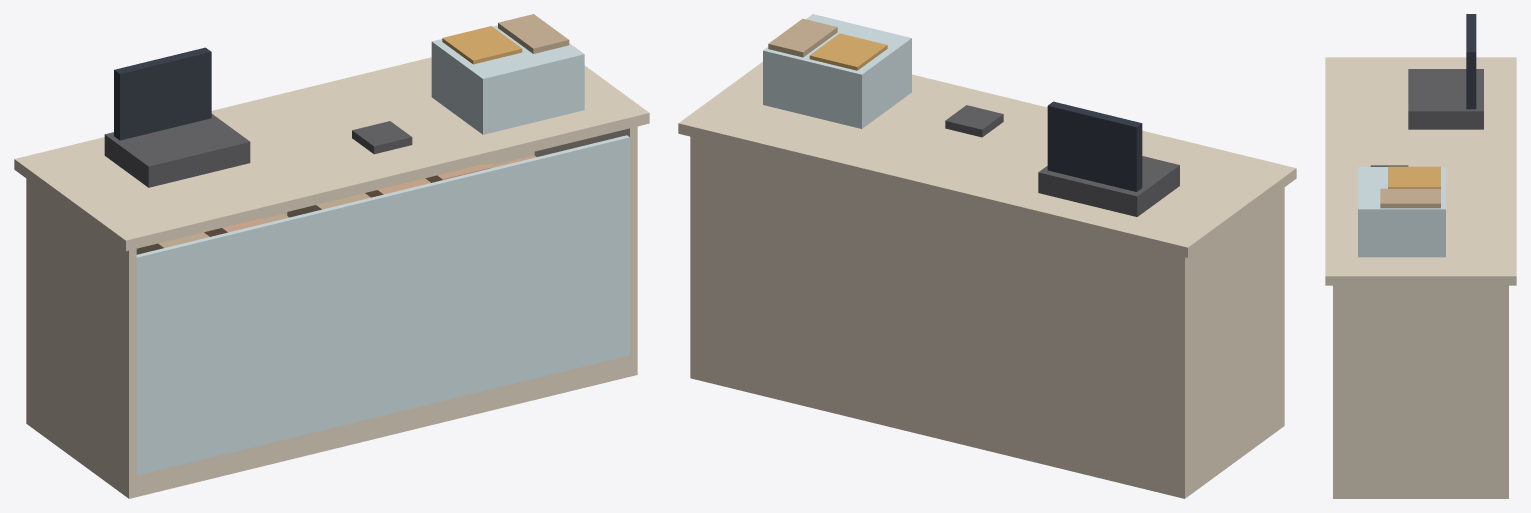
File: Checkout_Counter.fbx
The picture shows the model from 3 angles, left to right: view 1: azimuth 30°, elevation 25°; view 2: azimuth 150°, elevation 25°; view 3: azimuth 270°, elevation 25°; orthographic projection. The views are drawn at different scales.
Visible parts, largest first — view 1: Checkout_Counter; view 2: Checkout_Counter; view 3: Checkout_Counter.
Part boxes in pixels (x1,y1,x2,y2): Checkout_Counter: [14, 14, 649, 498]; Checkout_Counter: [678, 14, 1296, 498]; Checkout_Counter: [1325, 14, 1516, 498].
Size of the model in its own units: 2.06 by 1.32 by 0.76.
